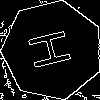H: (27, 25, 81, 71)
